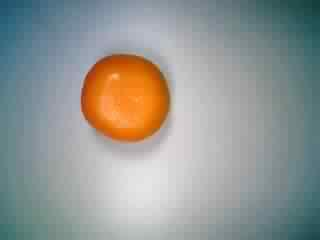orange: (75, 50, 176, 147)
